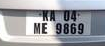0: (63, 10, 70, 22)
4: (71, 9, 78, 22)
6: (70, 22, 77, 34)
8: (63, 22, 70, 34)
9: (77, 22, 85, 35), (55, 22, 62, 34)
A: (49, 9, 57, 21)
E: (41, 22, 49, 35)
K: (42, 10, 49, 21)
M: (33, 22, 41, 34)
